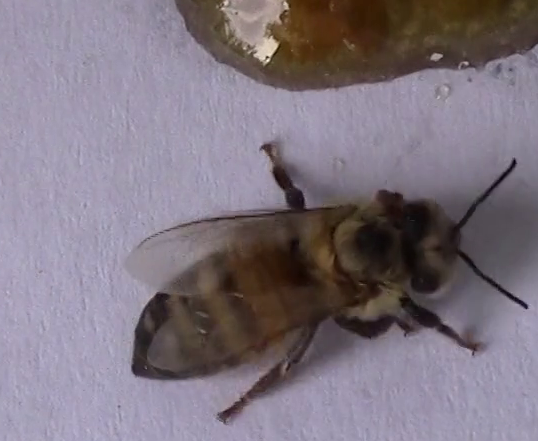Varroa destructor: (376, 186, 404, 223)
